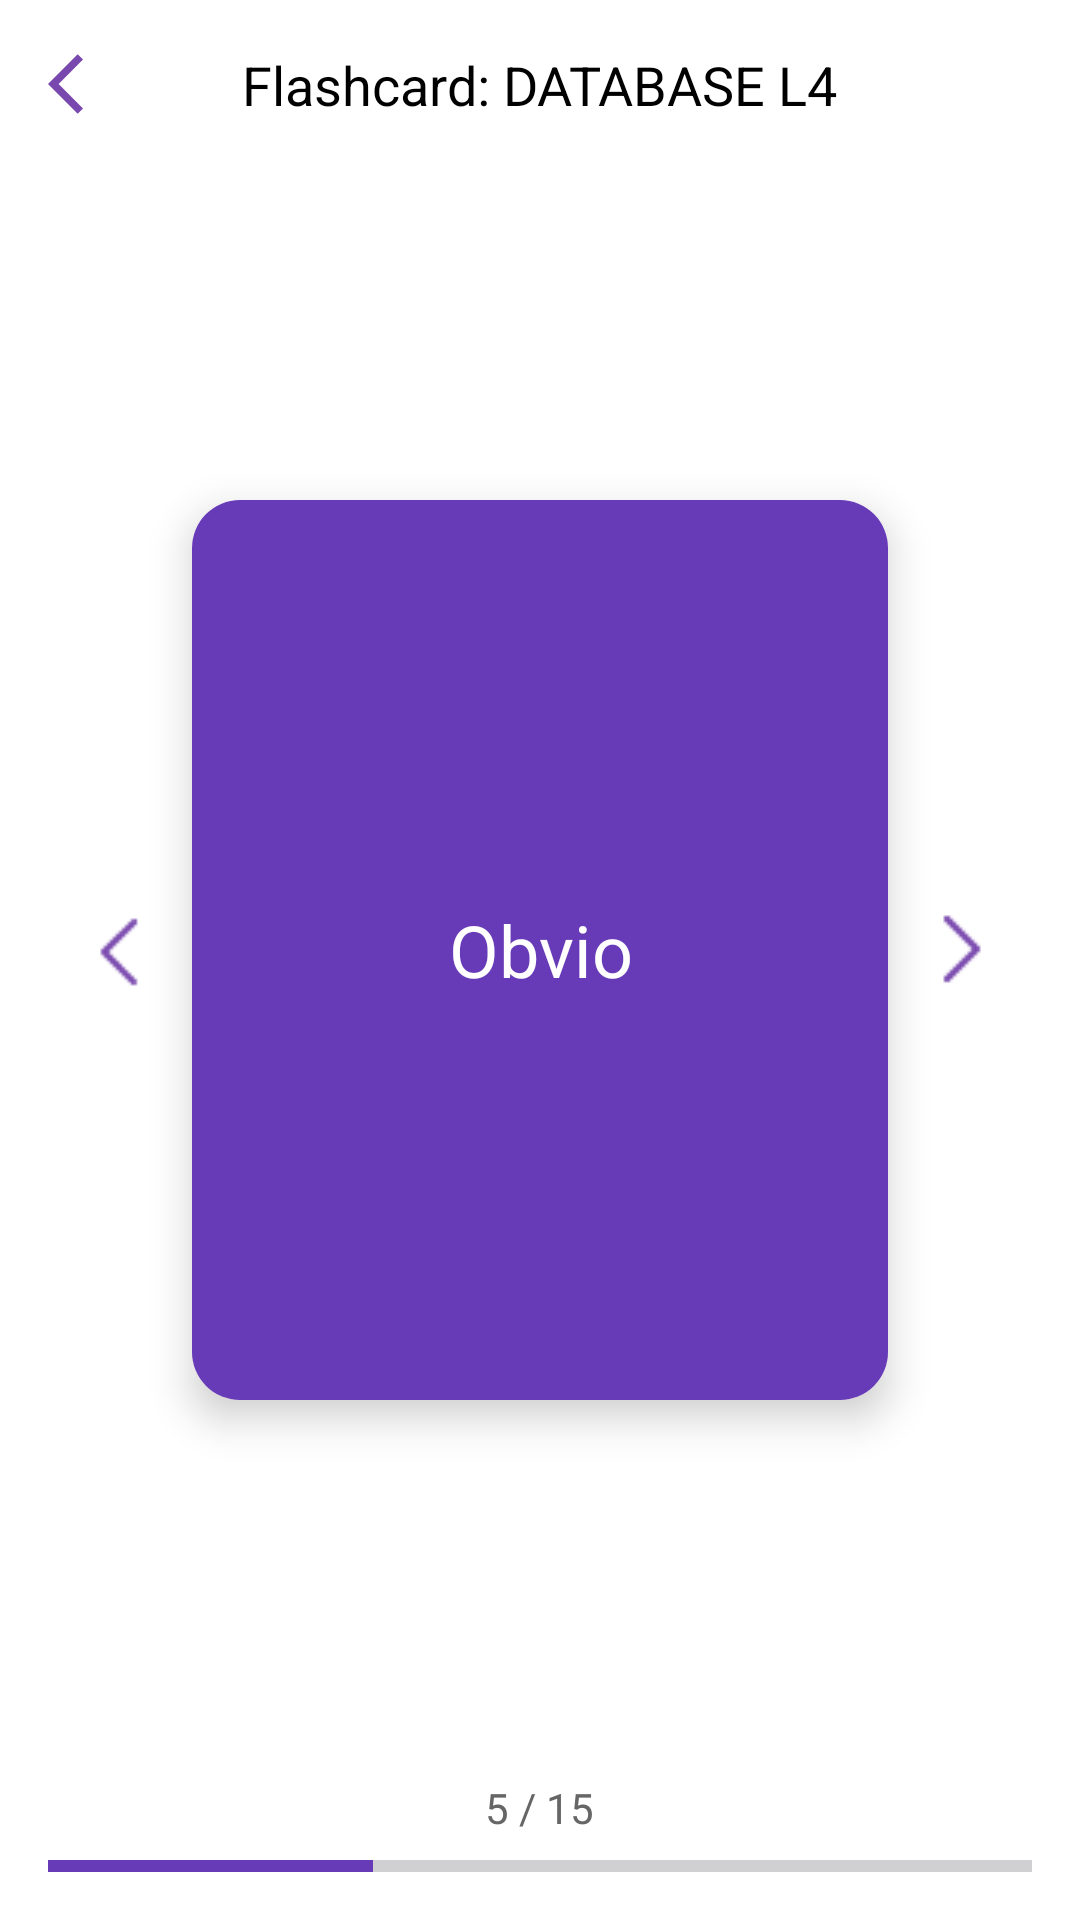

Point at icon controls on the screen. Image size 1080*1920, points as [x,y].
Back: [65,84]
Next: [962,949]
Previous: [119,952]
